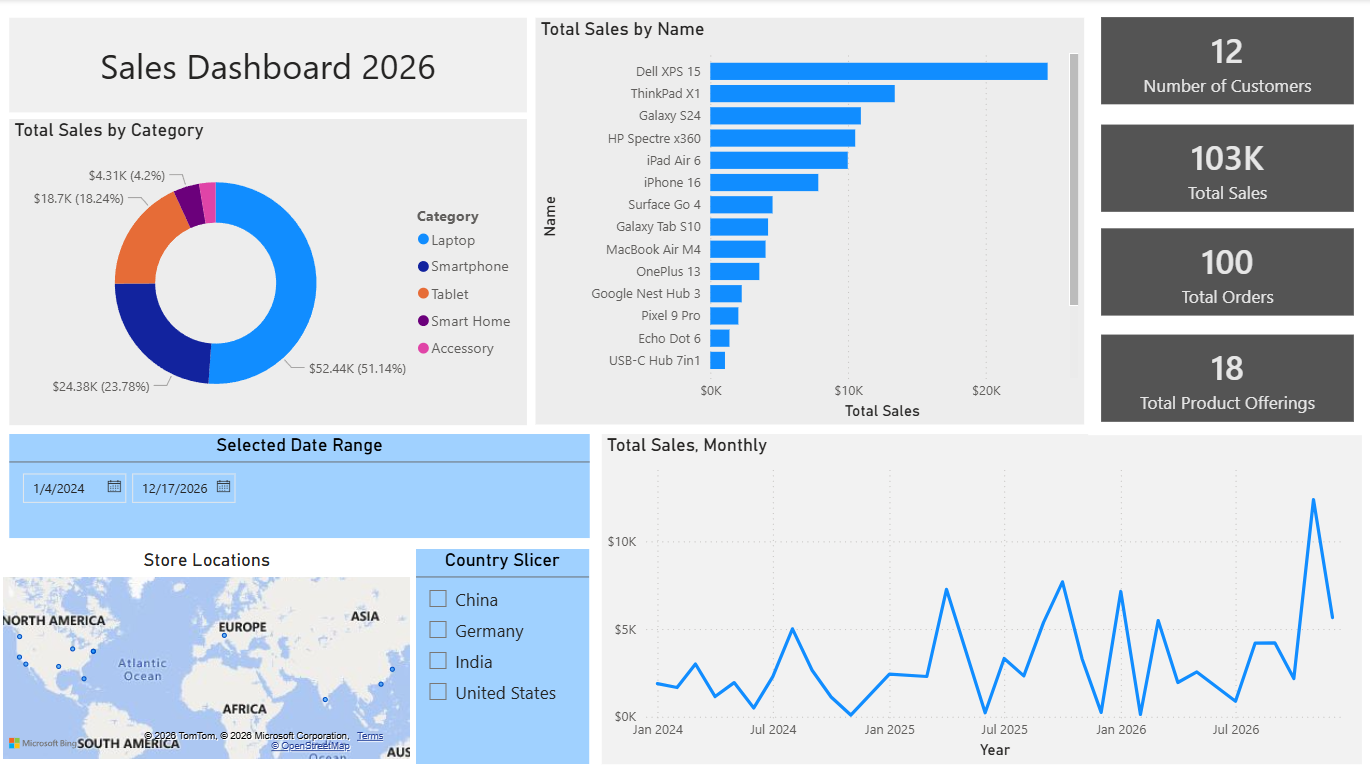

The page's visual inventory and layout, read from the dashboard file:
{"tool":"powerbi","page":{"name":"Sales Dashboard","canvas":[1280,720],"ordinal":0},"visuals":[{"type":"donutChart","fields":{"Category":["orders.product_category"],"Y":["Sum(orders.sales)"]},"box":[10.5,111.6,481.4,284.9],"z":0},{"type":"barChart","fields":{"Category":["orders.product_name"],"Y":["Sum(orders.sales)"]},"box":[500,17.1,510,378.6],"z":1000},{"type":"textbox","box":[10.5,17.4,481.4,88.4],"z":2000},{"type":"lineChart","title":"Total Sales, Monthly ","fields":{"Y":["Sum(orders.sales)"],"Category":["orders.order_date.Variation.Date Hierarchy.Year","orders.order_date.Variation.Date Hierarchy.Quarter","orders.order_date.Variation.Date Hierarchy.Month","orders.order_date.Variation.Date Hierarchy.Day"]},"box":[561.6,404.7,707,307],"z":3000},{"type":"cardVisual","fields":{"Data":["Count(orders.product_name)"]},"box":[1009,295.8,269.8,115],"z":4000},{"type":"slicer","title":"Country Slicer","fields":{"Values":["customers.country"]},"box":[388.4,519.8,161.6,191.9],"z":5000},{"type":"slicer","title":"Selected Date Range","fields":{"Values":["orders.order_date"]},"box":[10.5,404.7,539.5,107],"z":6000},{"type":"cardVisual","fields":{"Data":["CountNonNull(orders.order_id)"]},"box":[1009.5,196.5,269.8,115.1],"z":7000},{"type":"cardVisual","fields":{"Data":["Sum(orders.sales)"]},"box":[1009.5,100,269.8,115.1],"z":8000},{"type":"cardVisual","fields":{"Data":["Count(customers.customer_id)"]},"box":[1009.5,0,269.8,115.1],"z":9000},{"type":"map","title":"Store Locations ","fields":{"Category":["customers.city"]},"box":[0,519.8,388.4,191.9],"z":10001}]}

Visuals, with their boxes in screenshot pixels (x1, y1, x2, y2), scaled from the page's 1280x720 canvas onto the 1370x771 screenshot:
donutChart - orders.product_category x Sum(orders.sales): region(11, 120, 526, 425)
barChart - orders.product_name x Sum(orders.sales): region(535, 18, 1081, 424)
textbox: region(11, 19, 526, 113)
"Total Sales, Monthly " lineChart: region(601, 433, 1358, 762)
cardVisual - Count(orders.product_name): region(1080, 317, 1369, 440)
"Country Slicer" slicer: region(416, 557, 589, 762)
"Selected Date Range" slicer: region(11, 433, 589, 548)
cardVisual - CountNonNull(orders.order_id): region(1080, 210, 1369, 334)
cardVisual - Sum(orders.sales): region(1080, 107, 1369, 230)
cardVisual - Count(customers.customer_id): region(1080, 0, 1369, 123)
"Store Locations " map: region(0, 557, 416, 762)
